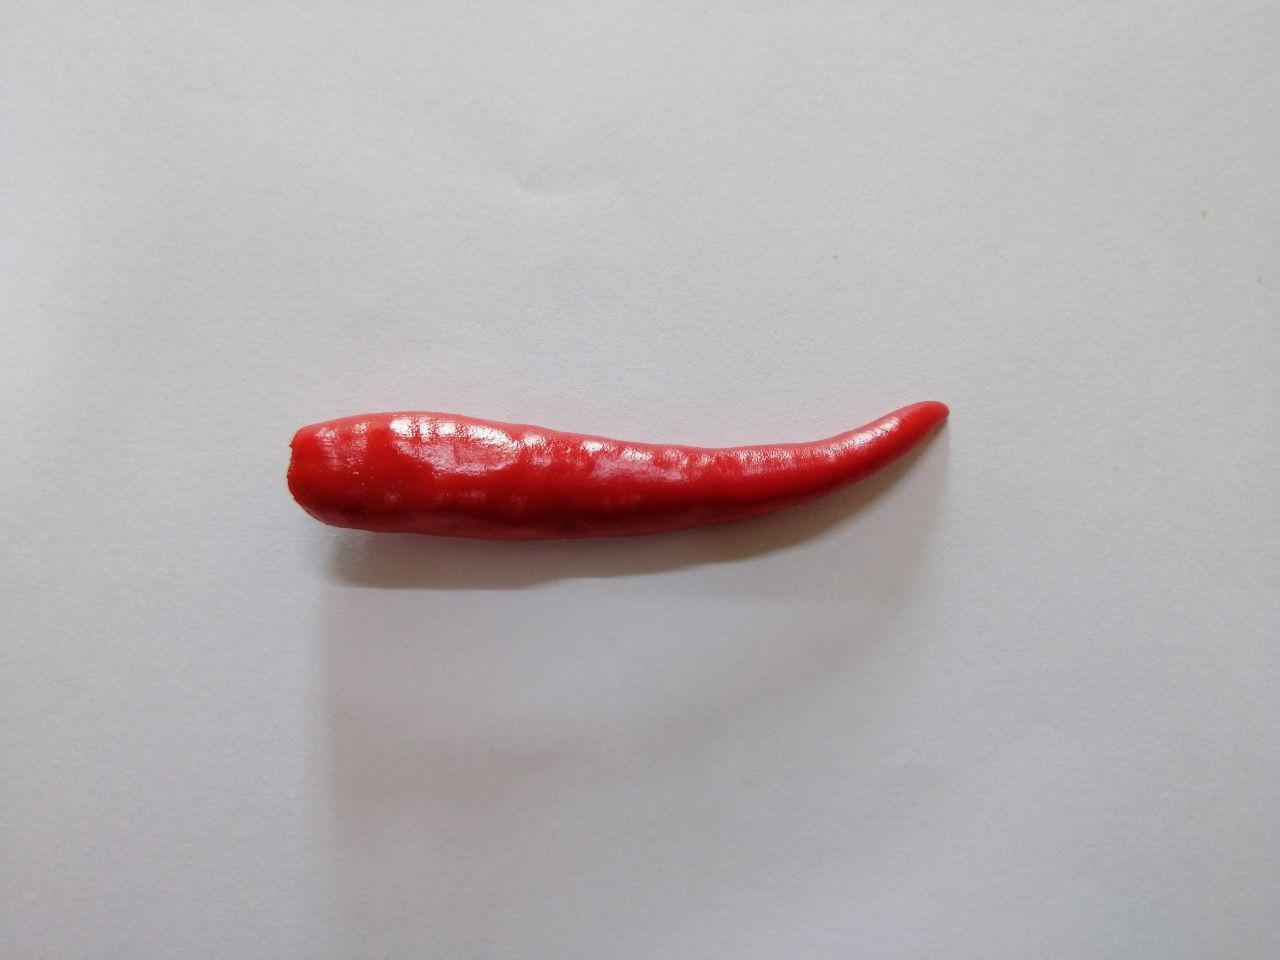lada merah: (253, 340, 978, 583)
